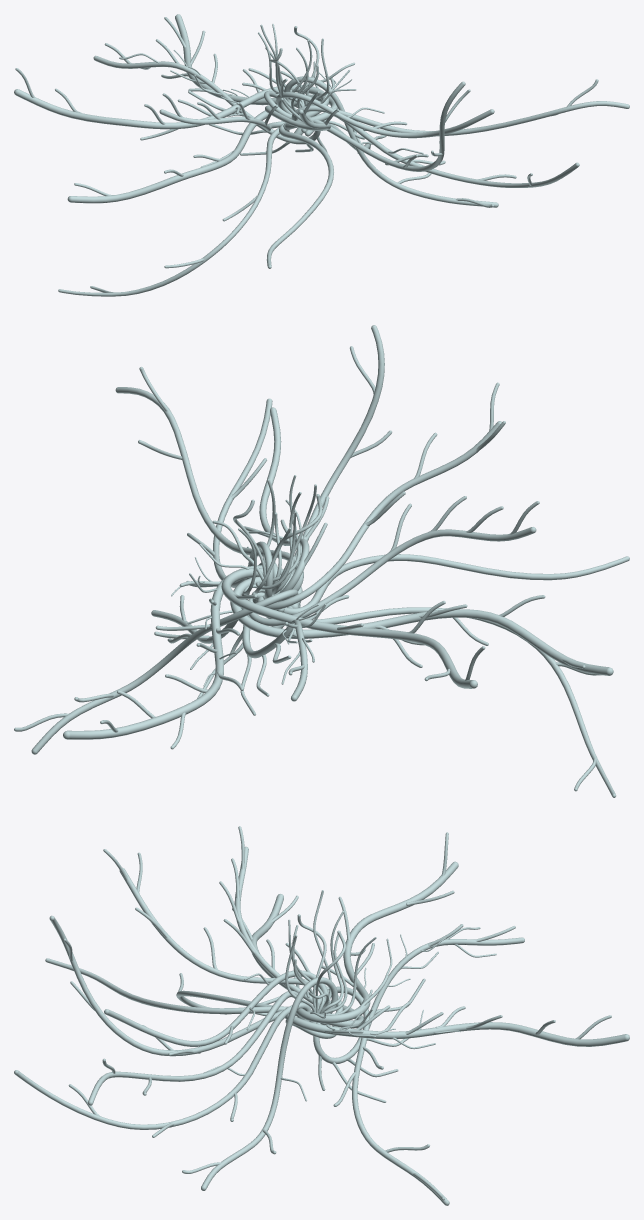
Rendered from coral_blue.glb.
3 renders of one model, top to bottom at view 1: azimuth 30°, elevation 25°; view 2: azimuth 150°, elevation 25°; view 3: azimuth 270°, elevation 25°, orthographic. The views are drawn at different scales.
Visible parts, largest first — view 1: Object_4, Object_3, Object_2, Object_5; view 2: Object_4, Object_3, Object_2, Object_5; view 3: Object_4, Object_3, Object_2, Object_5.
Boxes of the visible parts, bbox=[...] form: Object_4: bbox=[14, 14, 629, 296]; Object_3: bbox=[55, 17, 494, 207]; Object_2: bbox=[119, 40, 598, 268]; Object_5: bbox=[15, 39, 470, 168]; Object_4: bbox=[14, 325, 629, 797]; Object_3: bbox=[31, 479, 539, 754]; Object_2: bbox=[138, 367, 601, 749]; Object_5: bbox=[234, 346, 536, 680]; Object_4: bbox=[14, 849, 629, 1200]; Object_3: bbox=[182, 826, 611, 1205]; Object_2: bbox=[68, 914, 496, 1137]; Object_5: bbox=[63, 832, 515, 1055].
Bounding box in the file's own units: 2.5 × 1.12 × 2.53.
